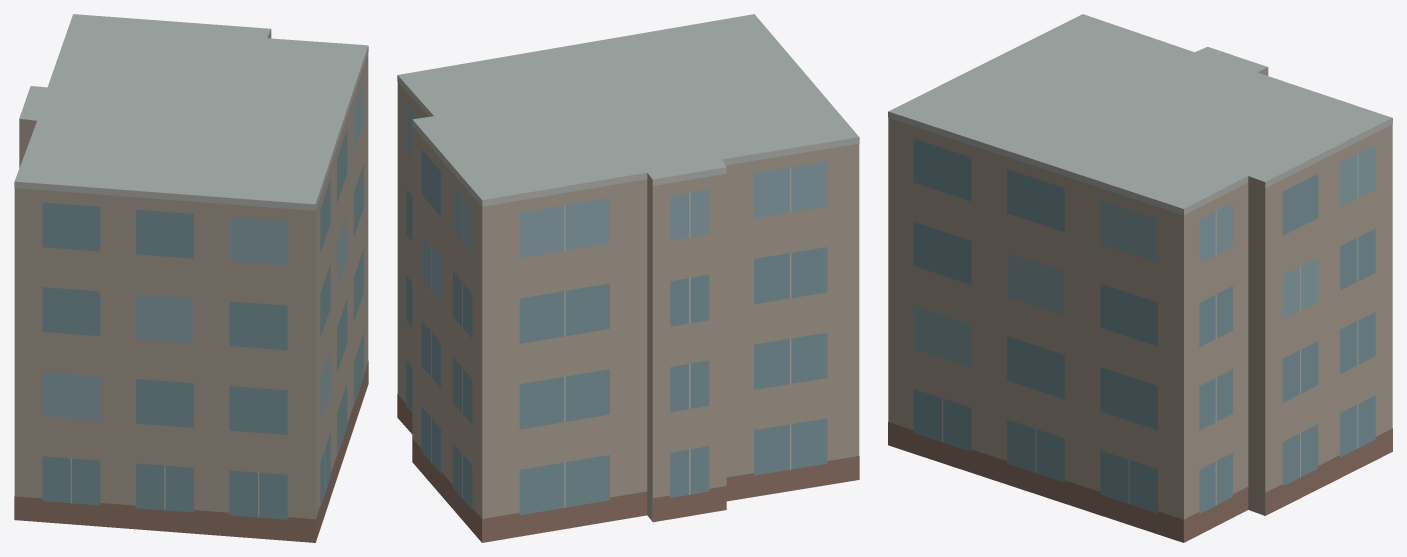
Rendered from survey-upis-32702910.glb.
3 renders of one model, left to right at view 1: azimuth 30°, elevation 25°; view 2: azimuth 150°, elevation 25°; view 3: azimuth 270°, elevation 25°, orthographic. The views are drawn at different scales.
Visible parts, largest first — view 1: survey-upis-32702910.tmp; view 2: survey-upis-32702910.tmp; view 3: survey-upis-32702910.tmp.
Boxes of the visible parts, <box> form: survey-upis-32702910.tmp: <box>14,14,368,542</box>; survey-upis-32702910.tmp: <box>397,14,859,542</box>; survey-upis-32702910.tmp: <box>888,14,1392,542</box>.
Size of the model in its own units: 16.11 by 12.85 by 17.61.
